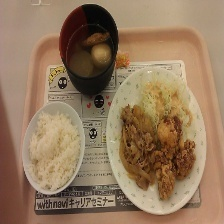rice: (25, 108, 81, 193)
